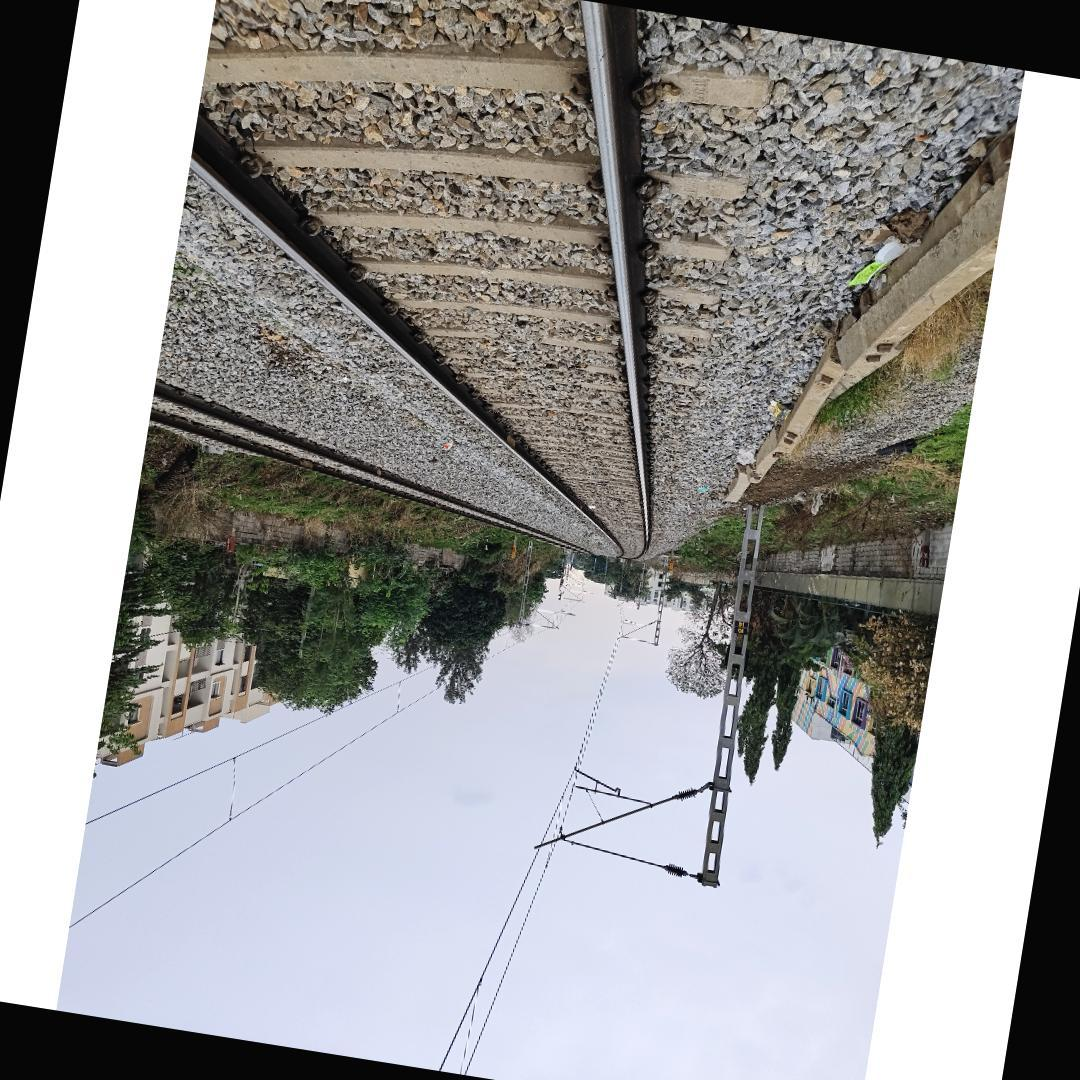track: (189, 0, 659, 568)
